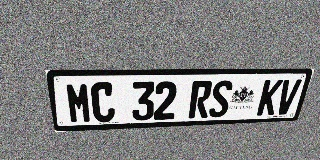2: (154, 81, 177, 120)
3: (132, 81, 155, 121)
C: (90, 82, 115, 123)
K: (256, 80, 284, 116)
M: (65, 82, 92, 124)
R: (188, 81, 213, 119)
S: (208, 80, 234, 118)
V: (274, 79, 302, 115)
